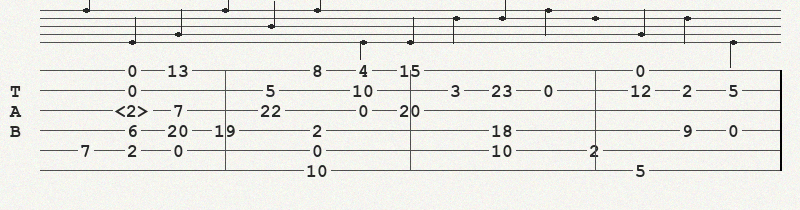0: (127, 62, 142, 78), (127, 82, 142, 98), (173, 142, 188, 158), (312, 142, 327, 158), (358, 102, 373, 118), (543, 82, 558, 98), (635, 62, 650, 78), (728, 122, 743, 138)
10: (306, 162, 332, 178), (352, 82, 378, 98), (491, 142, 517, 158)
12: (630, 82, 656, 98)
13: (167, 62, 193, 78)
15: (399, 62, 425, 78)
18: (491, 122, 517, 138)
19: (214, 122, 240, 138)
2: (127, 142, 142, 158), (312, 122, 327, 138), (589, 142, 604, 158), (682, 82, 697, 98)
20: (167, 122, 193, 138), (399, 102, 425, 118)
22: (260, 102, 286, 118)
23: (491, 82, 517, 98)
3: (450, 82, 465, 98)
4: (358, 62, 373, 78)
5: (265, 82, 280, 98), (635, 162, 650, 178), (728, 82, 743, 98)
6: (127, 122, 142, 138)
7: (80, 142, 95, 158), (173, 102, 188, 118)
8: (312, 62, 327, 78)
9: (682, 122, 697, 138)
harmonic: (115, 102, 154, 118)
